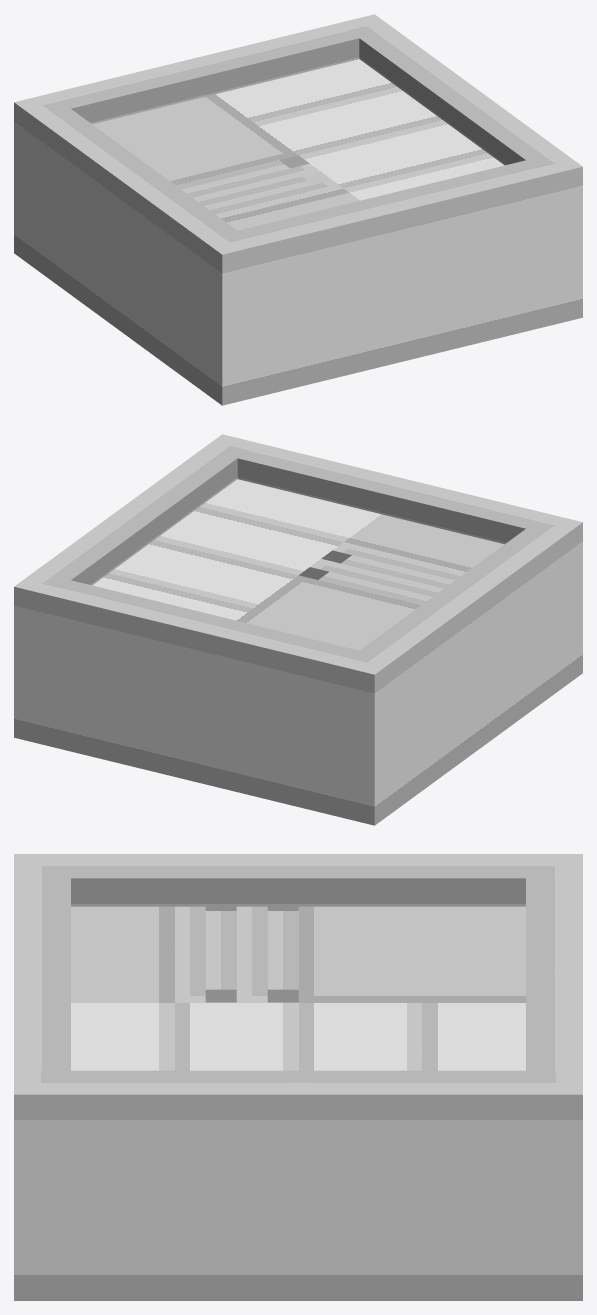
File: dog_dish_model.obj
3 renders of one model, top to bottom at view 1: azimuth 30°, elevation 25°; view 2: azimuth 150°, elevation 25°; view 3: azimuth 270°, elevation 25°, orthographic. The views are drawn at different scales.
Visible parts, largest first — view 1: Dish, Food; view 2: Dish, Food; view 3: Dish, Food.
Part boxes in pixels (x1,y1,x2,y2): Dish: [14, 14, 582, 405]; Food: [92, 59, 504, 230]; Dish: [14, 434, 582, 825]; Food: [92, 479, 504, 650]; Dish: [14, 854, 582, 1300]; Food: [71, 906, 525, 1070].
Size of the model in its own units: 0.625 by 0.25 by 0.625.
